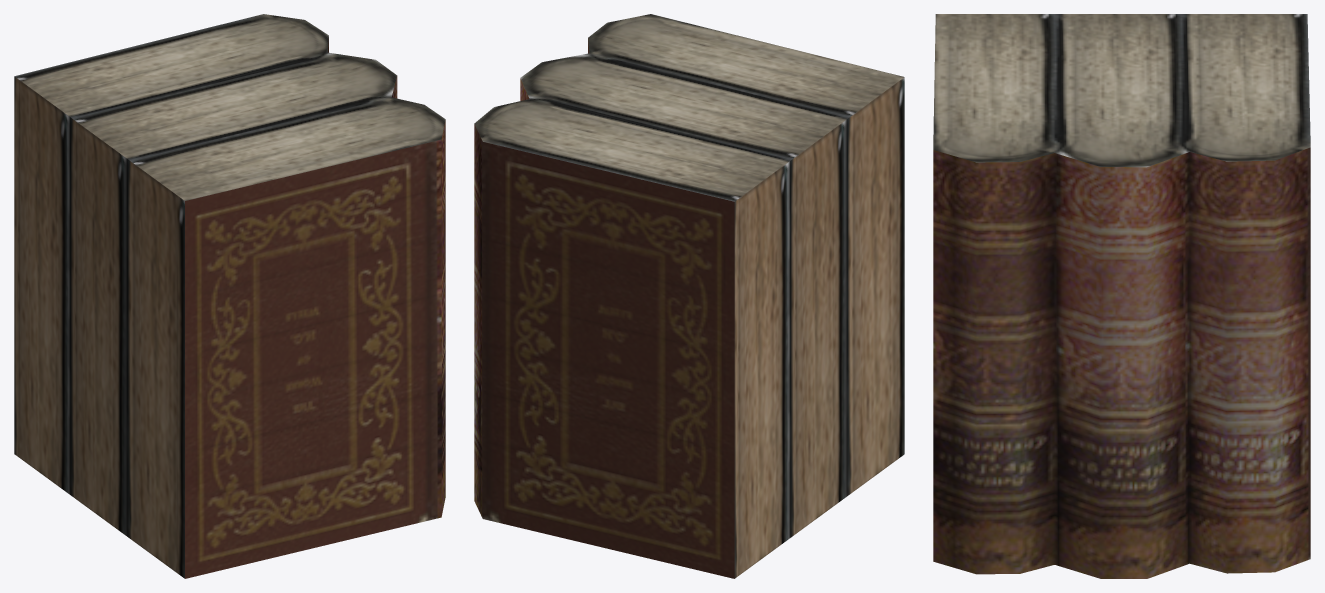
Rendered from Prop_Sm_BookSet_1_A.fbx.
The picture shows the model from 3 angles, left to right: view 1: azimuth 30°, elevation 25°; view 2: azimuth 150°, elevation 25°; view 3: azimuth 270°, elevation 25°; orthographic projection. The views are drawn at different scales.
Parts seen in each view (by area): view 1: Tomb_2_low_1:polySurface29; view 2: Tomb_2_low_1:polySurface29; view 3: Tomb_2_low_1:polySurface29.
Part boxes in pixels (x1=…): Tomb_2_low_1:polySurface29: x1=14, y1=14, x2=445, y2=578; Tomb_2_low_1:polySurface29: x1=474, y1=14, x2=904, y2=578; Tomb_2_low_1:polySurface29: x1=933, y1=14, x2=1310, y2=578.
Bounding box in the file's own units: 0.2479 × 0.3107 × 0.2582.
